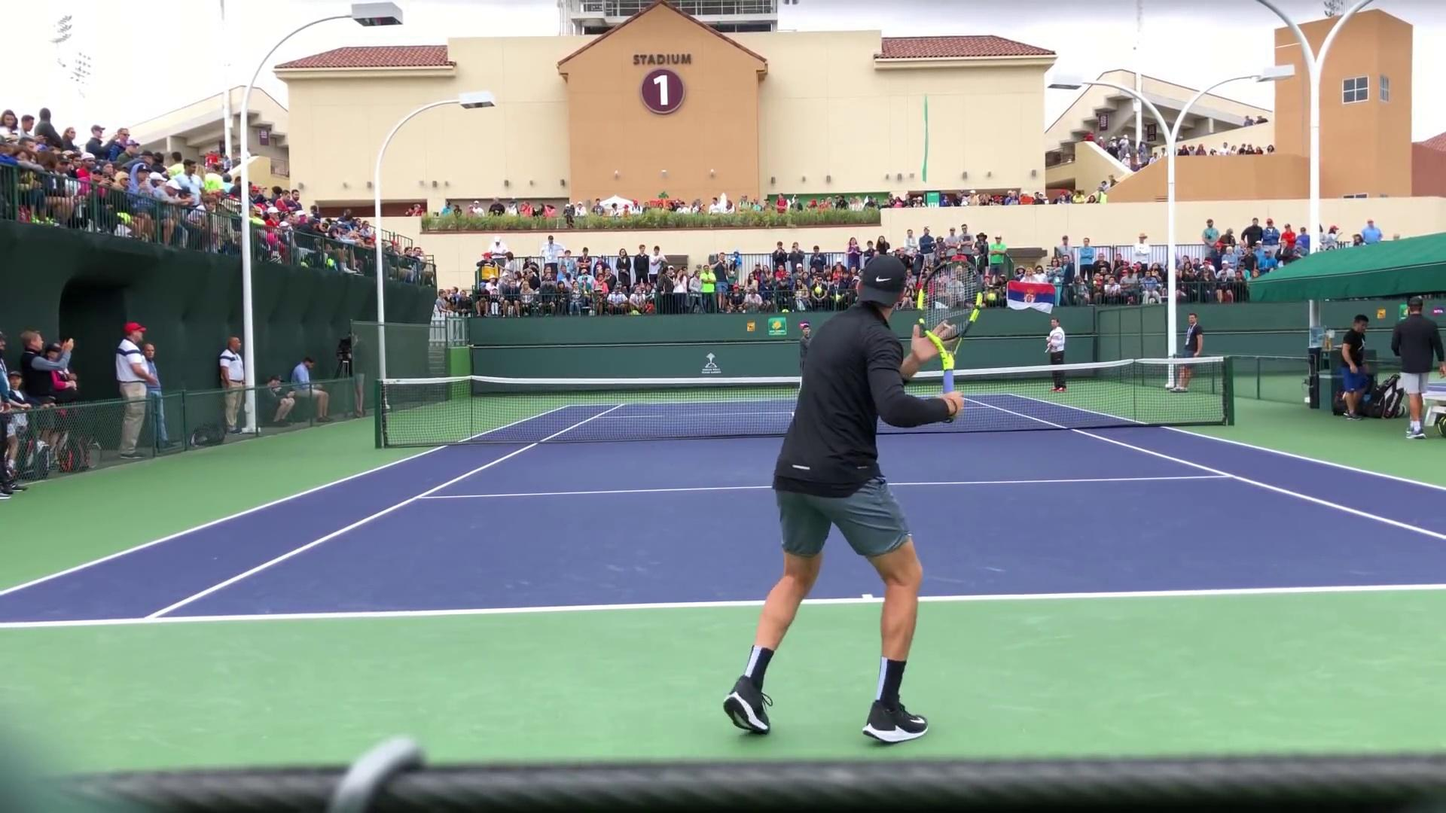ball: (814, 286, 822, 294)
